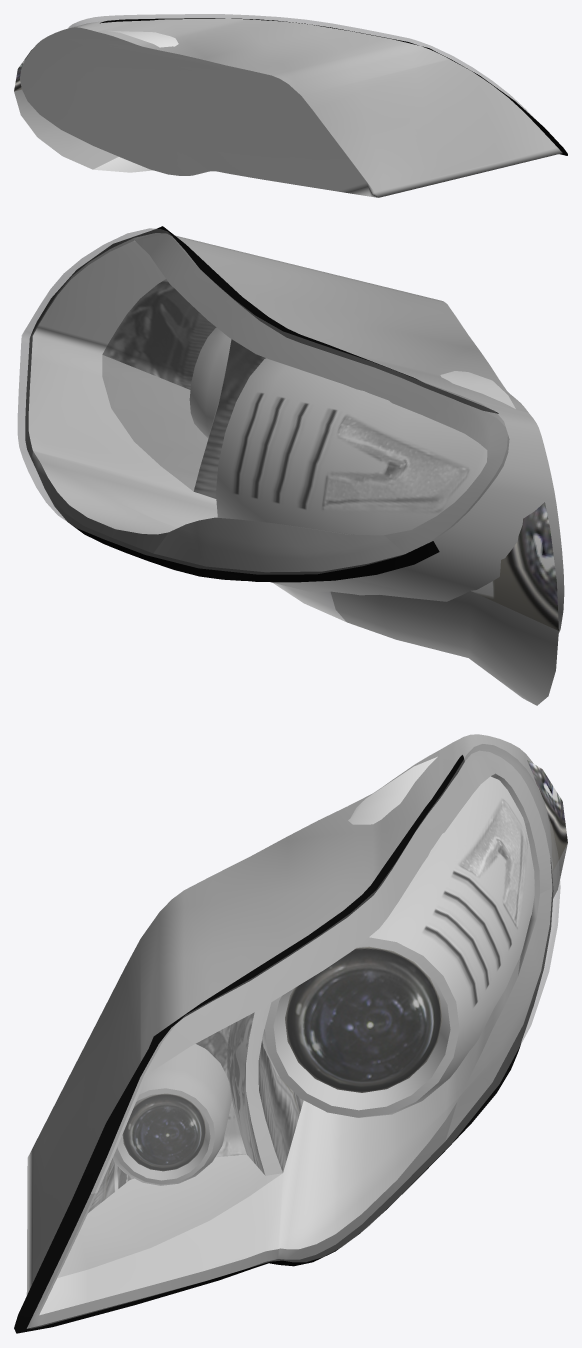
The picture shows the model from 3 angles, top to bottom: view 1: azimuth 30°, elevation 25°; view 2: azimuth 150°, elevation 25°; view 3: azimuth 270°, elevation 25°; orthographic projection. The views are drawn at different scales.
Visible parts, largest first — view 1: _6139_18_061B_L__6139_18_061B_L_2_N, _6139_18_061B_L__6139_18_061B_L_1_DTaSI, _6139_18_061B_L_4_D__6139_18_061B_L; view 2: _6139_18_061B_L__6139_18_061B_L_2_N, _6139_18_061B_L__6139_18_061B_L_1_DTaSI, _6139_18_061B_L__6139_18_061B_L_3_DTaSI, _6139_18_061B_L_4_D__6139_18_061B_L; view 3: _6139_18_061B_L__6139_18_061B_L_2_N, _6139_18_061B_L__6139_18_061B_L_1_DTaSI, _6139_18_061B_L__6139_18_061B_L_3_DTaSI, _6139_18_061B_L_4_D__6139_18_061B_L.
Boxes of the visible parts, <box> form: _6139_18_061B_L__6139_18_061B_L_2_N: <box>14,18,562,197</box>; _6139_18_061B_L__6139_18_061B_L_1_DTaSI: <box>68,14,534,118</box>; _6139_18_061B_L_4_D__6139_18_061B_L: <box>100,18,567,155</box>; _6139_18_061B_L__6139_18_061B_L_2_N: <box>25,233,564,705</box>; _6139_18_061B_L__6139_18_061B_L_1_DTaSI: <box>17,228,509,574</box>; _6139_18_061B_L__6139_18_061B_L_3_DTaSI: <box>103,280,230,490</box>; _6139_18_061B_L_4_D__6139_18_061B_L: <box>25,226,498,582</box>; _6139_18_061B_L__6139_18_061B_L_2_N: <box>26,734,567,1328</box>; _6139_18_061B_L__6139_18_061B_L_1_DTaSI: <box>27,744,560,1328</box>; _6139_18_061B_L__6139_18_061B_L_3_DTaSI: <box>58,1003,282,1277</box>; _6139_18_061B_L_4_D__6139_18_061B_L: <box>14,755,553,1333</box>.
Bounding box in the file's own units: 55.26 × 18.82 × 33.99.
